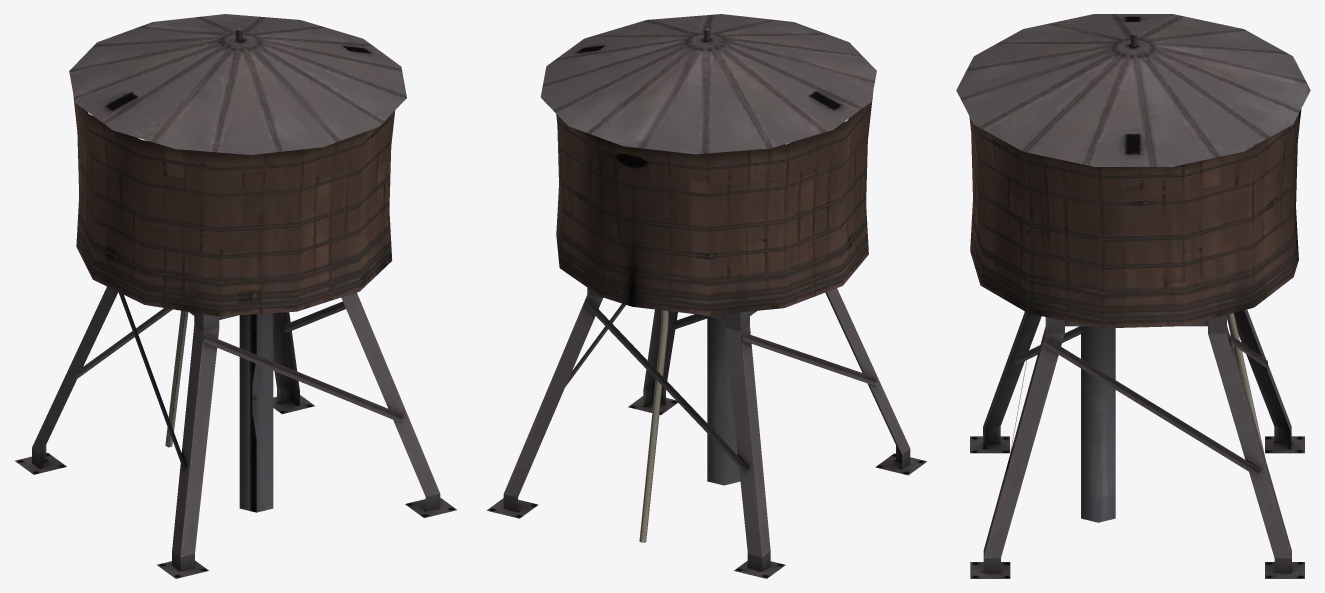
The picture shows the model from 3 angles, left to right: view 1: azimuth 30°, elevation 25°; view 2: azimuth 150°, elevation 25°; view 3: azimuth 270°, elevation 25°; orthographic projection. The views are drawn at different scales.
Visible parts, largest first — view 1: body0_model0_lod0_mesh0; view 2: body0_model0_lod0_mesh0; view 3: body0_model0_lod0_mesh0.
Part boxes in pixels (x1,y1,x2,y2): body0_model0_lod0_mesh0: (15,14,456,578); body0_model0_lod0_mesh0: (487,14,926,578); body0_model0_lod0_mesh0: (956,14,1310,578).
Size of the model in its own units: 265 by 408 by 272.
Materials: 1 (1 with a texture image).
